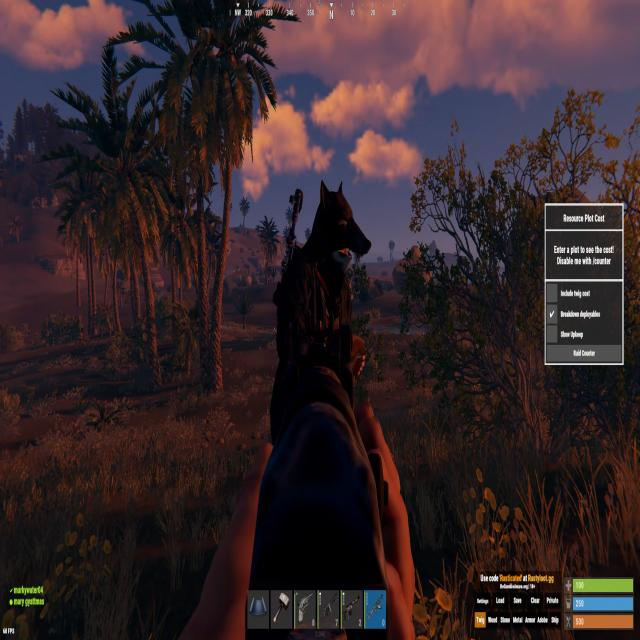Player: (277, 180, 372, 325)
